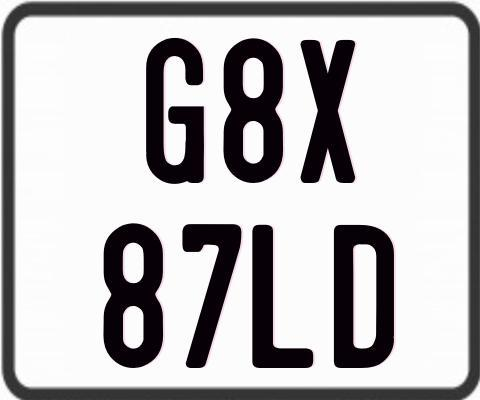7: (181, 224, 244, 369)
8: (103, 223, 169, 368), (223, 35, 286, 183)
D: (334, 222, 396, 365)
G: (143, 35, 202, 182)
L: (250, 223, 316, 370)
X: (298, 39, 357, 188)
